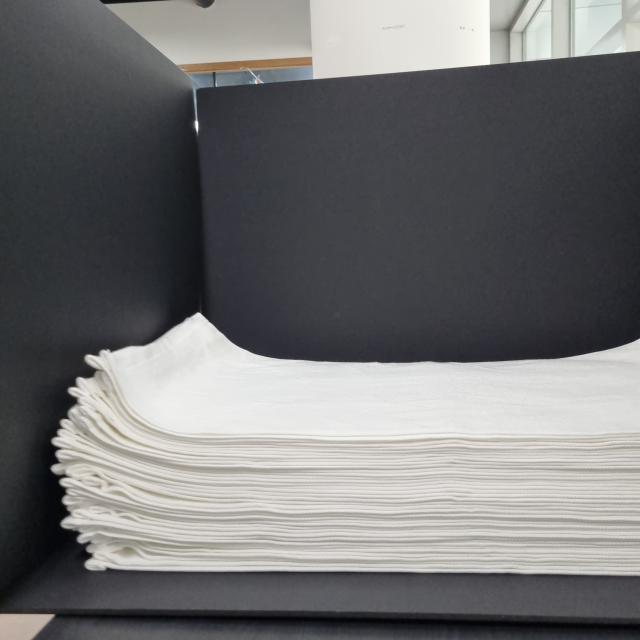not_50count_towel: (29, 297, 640, 590)
